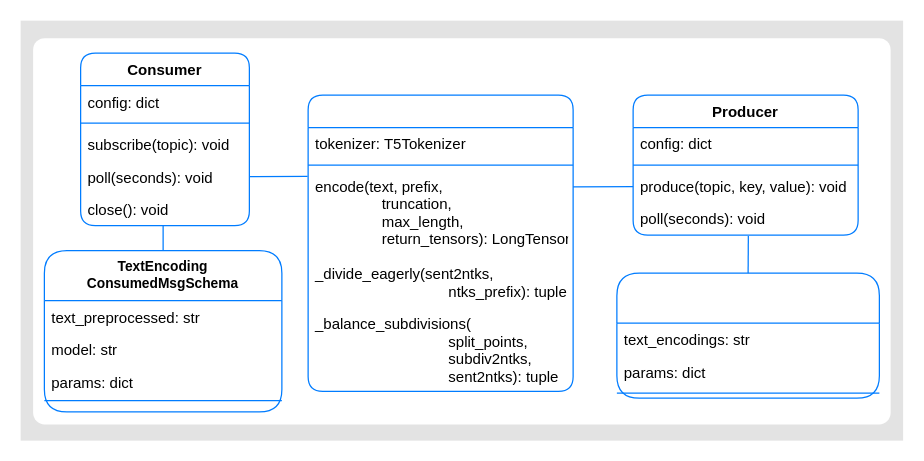
Some shapes in this 924 by 461 pixel diagram are drawn without their labels. The shapes that lost their labels are listed below. From the top down, each one's box as (x1, y1, x2, y2) in pixels, then its label:
(307, 94, 573, 391): TextEncoder
(616, 272, 879, 398): TextSumarization ProducedMsgSchema
